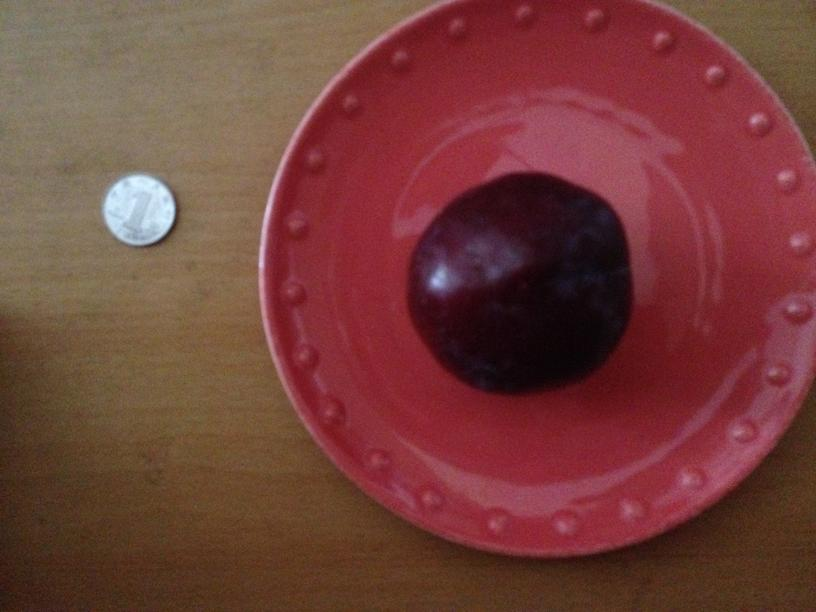coin: (100, 170, 178, 247)
plum: (412, 175, 630, 391)
